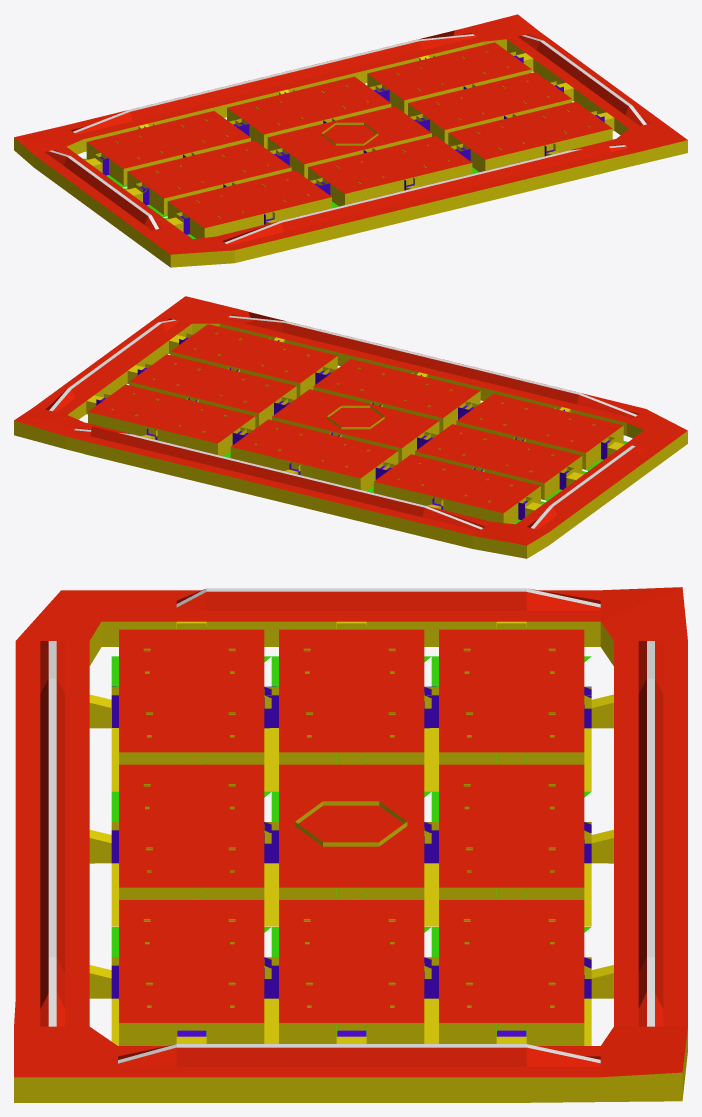
The model's file is Floor 11.fbx.
The picture shows the model from 3 angles, top to bottom: view 1: azimuth 30°, elevation 25°; view 2: azimuth 150°, elevation 25°; view 3: azimuth 270°, elevation 25°; orthographic projection. The views are drawn at different scales.
Visible parts, largest first — view 1: Cube; view 2: Cube; view 3: Cube.
Part boxes in pixels (bbox=[...]): Cube: bbox=[14, 14, 687, 267]; Cube: bbox=[14, 296, 687, 558]; Cube: bbox=[14, 587, 687, 1102].
Size of the model in its own units: 12679 by 530 by 7416.
